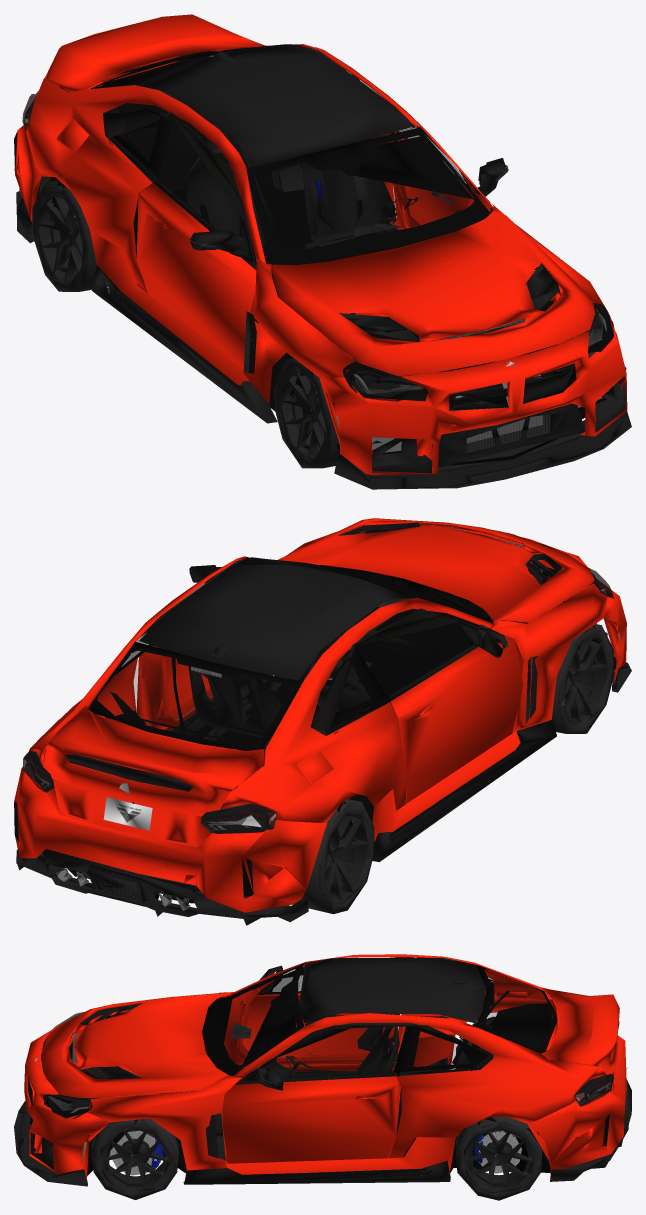
The model's file is m2-vorsteiner.glb.
3 renders of one model, top to bottom at view 1: azimuth 30°, elevation 25°; view 2: azimuth 150°, elevation 25°; view 3: azimuth 270°, elevation 25°, orthographic. The views are drawn at different scales.
Parts seen in each view (by area): view 1: vors:Kit2_Paint_Geo_lodA_Kit2_Paint_Geo_lodA_BMW_M2G87TNR2_2, vors:Kit2_Carbon1_Geo_lodA_Kit2_Carbon1_Geo_lodA_BMW_M2G87TN, vors:Kit2_Window_Geo_lodA_Kit2_Window_Geo_lodA_BMW_M2G87TNR2 (×3), vors:Hood2b_Paint_Geo_lodA_Hood2b_Paint_Geo_lodA_BMW_M2G87TN, vors:Wing2a_Paint_Geo_lodA_Wing2a_Paint_Geo_lodA_BMW_M2G87TN, vors:Kit2_Coloured_Geo_lodA_Kit2_Coloured_Geo_lodA_BMW_M2G87, vors:Kit2_Base_Geo_lodA_Kit2_Base_Geo_lodA_BMW_M2G87TNR2_202, off3, vors:Kit2_Light_Geo_lodA_Kit2_Light_Geo_lodA_BMW_M2G87TNR2_2, off1, polySurface101, polySurface85 (+4 smaller); view 2: vors:Kit2_Paint_Geo_lodA_Kit2_Paint_Geo_lodA_BMW_M2G87TNR2_2, vors:Wing2a_Paint_Geo_lodA_Wing2a_Paint_Geo_lodA_BMW_M2G87TN, vors:Kit2_Carbon1_Geo_lodA_Kit2_Carbon1_Geo_lodA_BMW_M2G87TN, vors:Kit2_Window_Geo_lodA_Kit2_Window_Geo_lodA_BMW_M2G87TNR2 (×3), vors:Hood2b_Paint_Geo_lodA_Hood2b_Paint_Geo_lodA_BMW_M2G87TN, vors:Kit2_Coloured_Geo_lodA_Kit2_Coloured_Geo_lodA_BMW_M2G87, vors:Kit2_Base_Geo_lodA_Kit2_Base_Geo_lodA_BMW_M2G87TNR2_202, off3, off1, vors:Kit2_Light_Geo_lodA_Kit2_Light_Geo_lodA_BMW_M2G87TNR2_2, polySurface101, polySurface85 (+3 smaller); view 3: vors:Kit2_Paint_Geo_lodA_Kit2_Paint_Geo_lodA_BMW_M2G87TNR2_2, vors:Wing2a_Paint_Geo_lodA_Wing2a_Paint_Geo_lodA_BMW_M2G87TN, vors:Kit2_Carbon1_Geo_lodA_Kit2_Carbon1_Geo_lodA_BMW_M2G87TN, vors:Kit2_Window_Geo_lodA_Kit2_Window_Geo_lodA_BMW_M2G87TNR2 (×3), vors:Hood2b_Paint_Geo_lodA_Hood2b_Paint_Geo_lodA_BMW_M2G87TN, vors:Kit2_Coloured_Geo_lodA_Kit2_Coloured_Geo_lodA_BMW_M2G87, vors:Kit2_Base_Geo_lodA_Kit2_Base_Geo_lodA_BMW_M2G87TNR2_202, off2, RimV:off1, polySurface77, polySurface93, vors:Kit2_Light_Geo_lodA_Kit2_Light_Geo_lodA_BMW_M2G87TNR2_2 (+3 smaller).
Boxes of the visible parts, x1=… form: vors:Kit2_Paint_Geo_lodA_Kit2_Paint_Geo_lodA_BMW_M2G87TNR2_2: x1=15, y1=50, x2=627, y2=474; vors:Kit2_Carbon1_Geo_lodA_Kit2_Carbon1_Geo_lodA_BMW_M2G87TN: x1=16, y1=44, x2=631, y2=489; vors:Kit2_Window_Geo_lodA_Kit2_Window_Geo_lodA_BMW_M2G87TNR2 (×3): x1=22, y1=44, x2=613, y2=401; vors:Hood2b_Paint_Geo_lodA_Hood2b_Paint_Geo_lodA_BMW_M2G87TN: x1=271, y1=210, x2=595, y2=376; vors:Wing2a_Paint_Geo_lodA_Wing2a_Paint_Geo_lodA_BMW_M2G87TN: x1=26, y1=14, x2=493, y2=292; vors:Kit2_Coloured_Geo_lodA_Kit2_Coloured_Geo_lodA_BMW_M2G87: x1=14, y1=47, x2=626, y2=467; vors:Kit2_Base_Geo_lodA_Kit2_Base_Geo_lodA_BMW_M2G87TNR2_202: x1=48, y1=49, x2=585, y2=453; off3: x1=37, y1=192, x2=83, y2=285; vors:Kit2_Light_Geo_lodA_Kit2_Light_Geo_lodA_BMW_M2G87TNR2_2: x1=23, y1=55, x2=614, y2=427; off1: x1=280, y1=368, x2=325, y2=462; polySurface101: x1=32, y1=180, x2=135, y2=291; polySurface85: x1=274, y1=358, x2=368, y2=468; vors:Kit2_Paint_Geo_lodA_Kit2_Paint_Geo_lodA_BMW_M2G87TNR2_2: x1=14, y1=523, x2=626, y2=912; vors:Wing2a_Paint_Geo_lodA_Wing2a_Paint_Geo_lodA_BMW_M2G87TN: x1=29, y1=556, x2=492, y2=847; vors:Kit2_Carbon1_Geo_lodA_Kit2_Carbon1_Geo_lodA_BMW_M2G87TN: x1=16, y1=557, x2=631, y2=925; vors:Kit2_Window_Geo_lodA_Kit2_Window_Geo_lodA_BMW_M2G87TNR2 (×3): x1=23, y1=557, x2=614, y2=833; vors:Hood2b_Paint_Geo_lodA_Hood2b_Paint_Geo_lodA_BMW_M2G87TN: x1=278, y1=518, x2=594, y2=622; vors:Kit2_Coloured_Geo_lodA_Kit2_Coloured_Geo_lodA_BMW_M2G87: x1=14, y1=530, x2=616, y2=910; vors:Kit2_Base_Geo_lodA_Kit2_Base_Geo_lodA_BMW_M2G87TNR2_202: x1=43, y1=566, x2=612, y2=899; off3: x1=323, y1=812, x2=371, y2=904; off1: x1=563, y1=636, x2=610, y2=726; vors:Kit2_Light_Geo_lodA_Kit2_Light_Geo_lodA_BMW_M2G87TNR2_2: x1=24, y1=528, x2=620, y2=833; polySurface101: x1=302, y1=799, x2=374, y2=913; polySurface85: x1=541, y1=624, x2=613, y2=733; vors:Kit2_Paint_Geo_lodA_Kit2_Paint_Geo_lodA_BMW_M2G87TNR2_2: x1=24, y1=980, x2=627, y2=1179; vors:Wing2a_Paint_Geo_lodA_Wing2a_Paint_Geo_lodA_BMW_M2G87TN: x1=233, y1=954, x2=619, y2=1158; vors:Kit2_Carbon1_Geo_lodA_Kit2_Carbon1_Geo_lodA_BMW_M2G87TN: x1=14, y1=958, x2=631, y2=1186; vors:Kit2_Window_Geo_lodA_Kit2_Window_Geo_lodA_BMW_M2G87TNR2 (×3): x1=43, y1=963, x2=613, y2=1118; vors:Hood2b_Paint_Geo_lodA_Hood2b_Paint_Geo_lodA_BMW_M2G87TN: x1=41, y1=993, x2=227, y2=1098; vors:Kit2_Coloured_Geo_lodA_Kit2_Coloured_Geo_lodA_BMW_M2G87: x1=28, y1=957, x2=627, y2=1146; vors:Kit2_Base_Geo_lodA_Kit2_Base_Geo_lodA_BMW_M2G87TNR2_202: x1=87, y1=967, x2=609, y2=1175; off2: x1=464, y1=1128, x2=535, y2=1193; RimV:off1: x1=100, y1=1127, x2=171, y2=1191; polySurface77: x1=91, y1=1118, x2=178, y2=1199; polySurface93: x1=456, y1=1117, x2=542, y2=1200; vors:Kit2_Light_Geo_lodA_Kit2_Light_Geo_lodA_BMW_M2G87TNR2_2: x1=43, y1=969, x2=612, y2=1162.
Bounding box in the file's own units: 0.0207 × 0.0139 × 0.0467.
26 materials, 16 textured.
